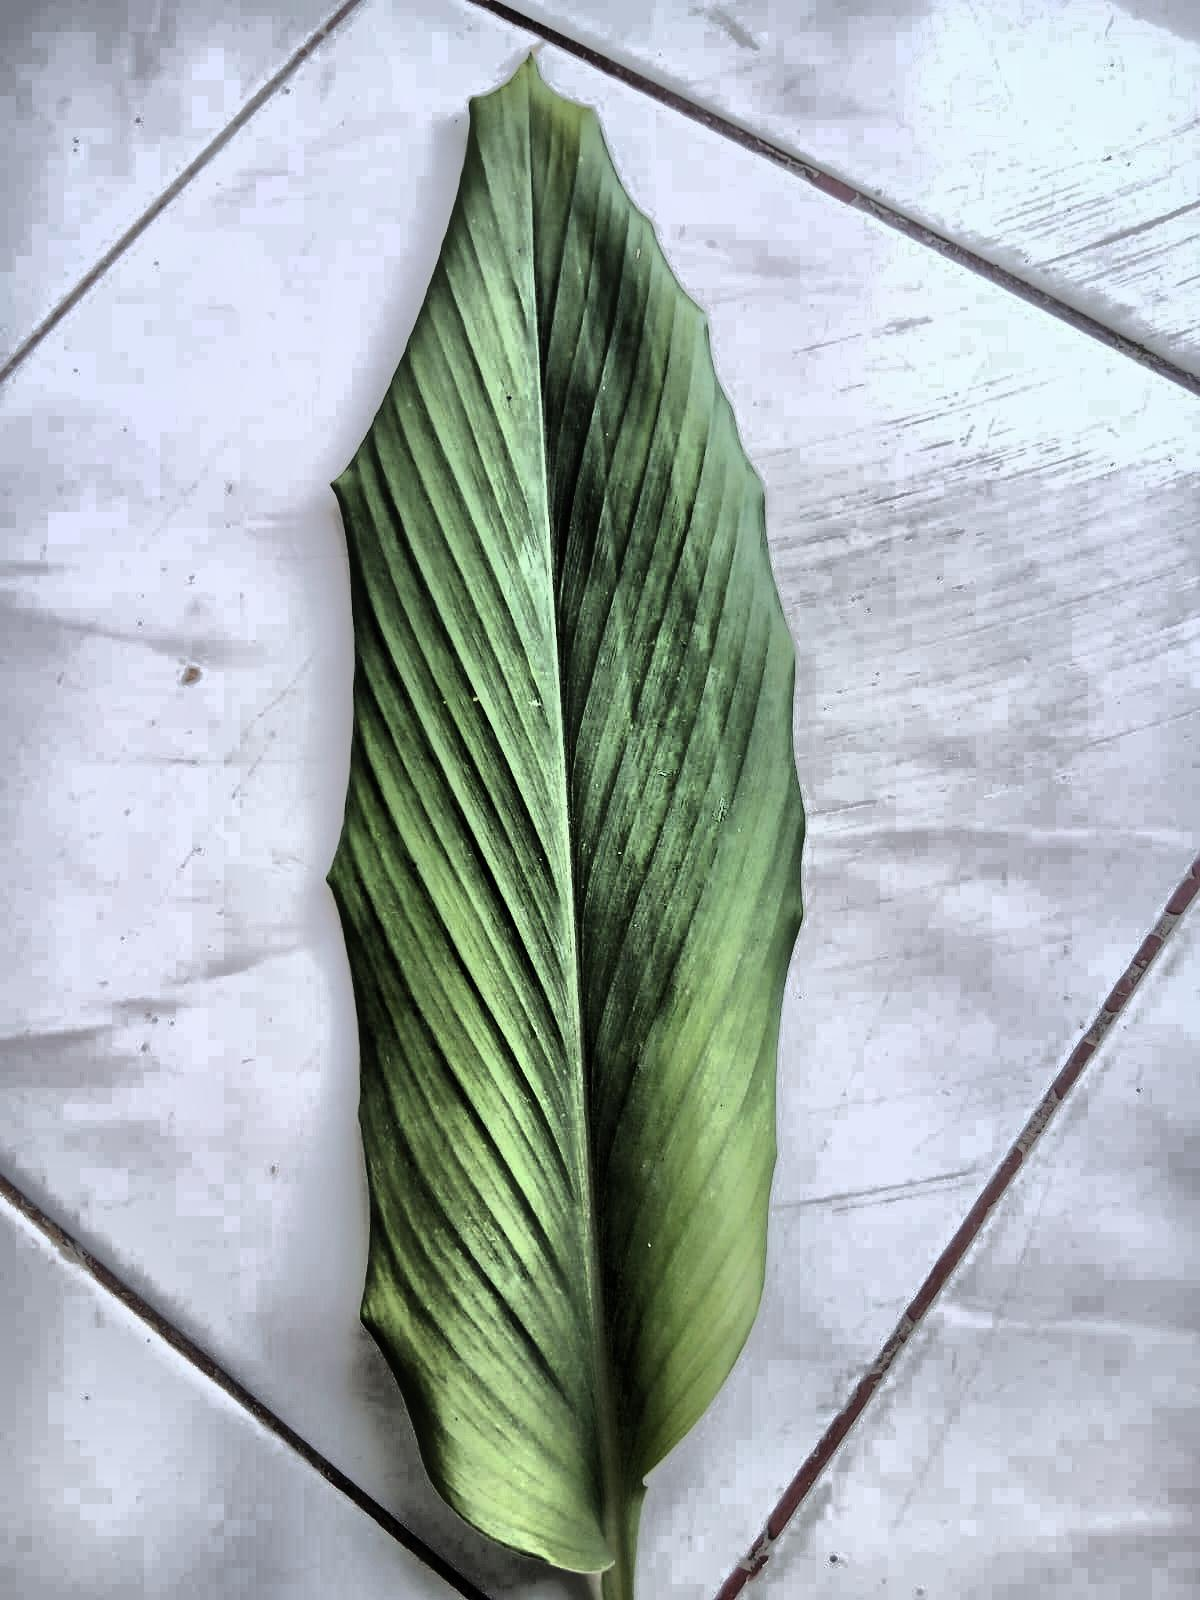daun kunyit: (329, 60, 804, 1599)
